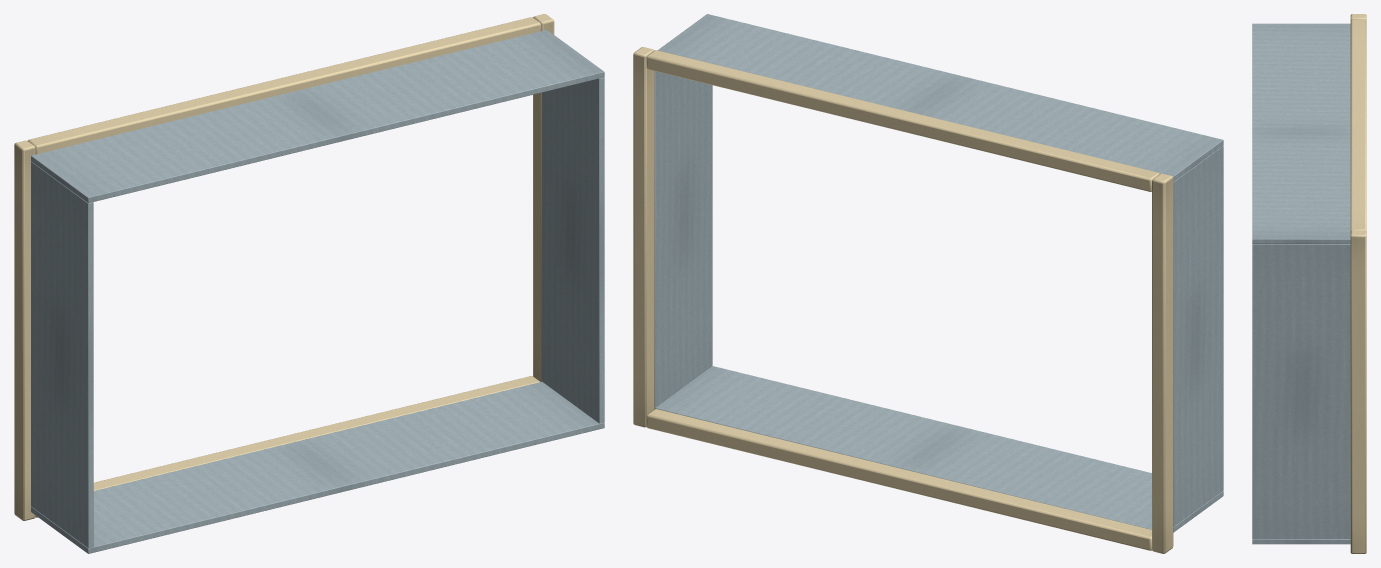
The model's file is 31-back-open-long-window--52.fbx.
3 renders of one model, left to right at view 1: azimuth 30°, elevation 25°; view 2: azimuth 150°, elevation 25°; view 3: azimuth 270°, elevation 25°, orthographic. The views are drawn at different scales.
Parts seen in each view (by area): view 1: back-open-long-window--52; view 2: back-open-long-window--52; view 3: back-open-long-window--52.
Boxes of the visible parts, x1,y1,x2,y2 form: back-open-long-window--52: (14,14,604,553); back-open-long-window--52: (633,14,1223,553); back-open-long-window--52: (1252,14,1366,553).
Size of the model in its own units: 4840 by 3240 by 1055.
1 material, 1 textured.
